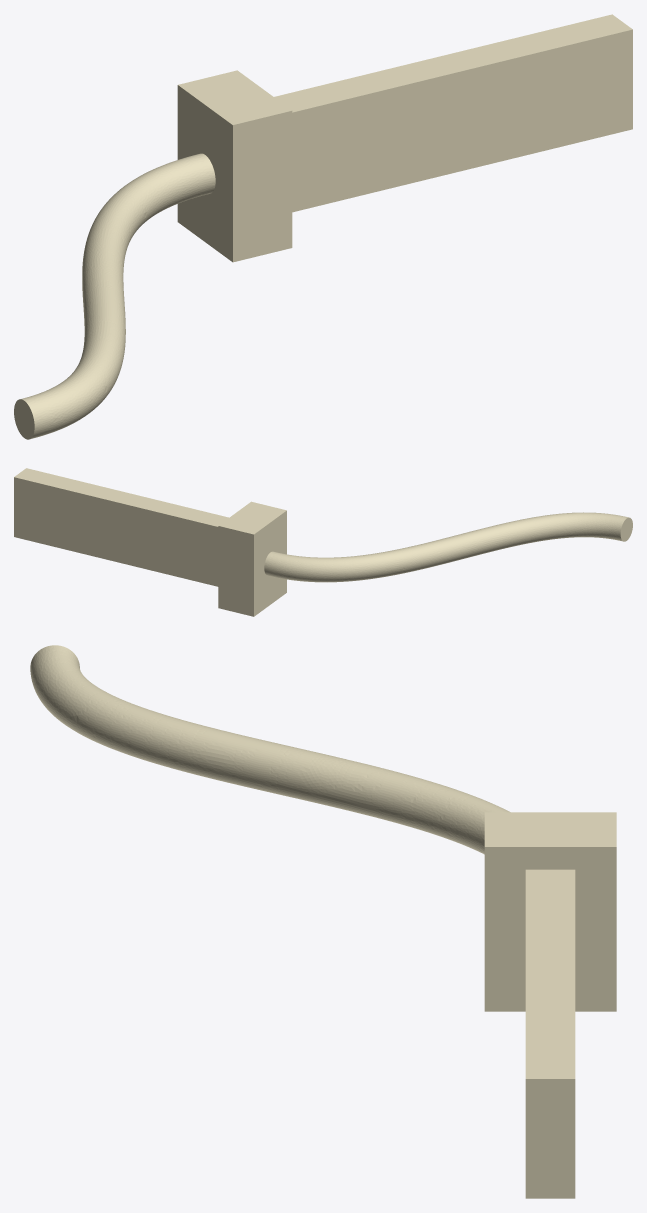
Rendered from iac-terminal-vpwr-estimated.glb.
The picture shows the model from 3 angles, top to bottom: view 1: azimuth 30°, elevation 25°; view 2: azimuth 150°, elevation 25°; view 3: azimuth 270°, elevation 25°; orthographic projection. The views are drawn at different scales.
Parts seen in each view (by area): view 1: world; view 2: world; view 3: world.
Boxes of the visible parts, x1,y1,x2,y2 form: world: [14, 14, 632, 439]; world: [14, 468, 632, 616]; world: [30, 645, 616, 1198].
Bounding box in the file's own units: 0.0135 × 0.0022 × 0.0071.
